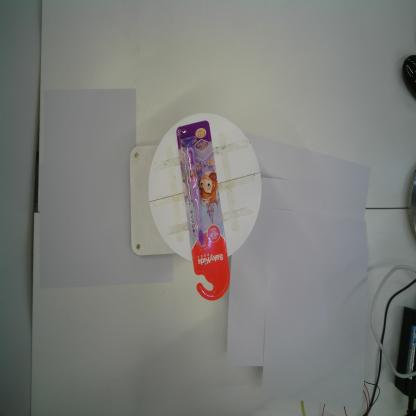Personal Hygiene: (176, 120, 230, 302)
